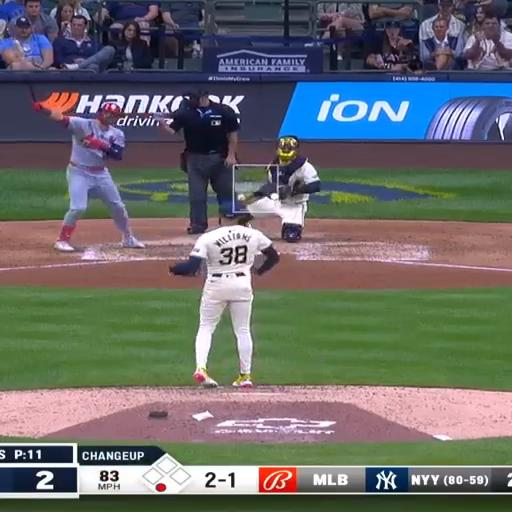bat: (29, 84, 36, 103)
